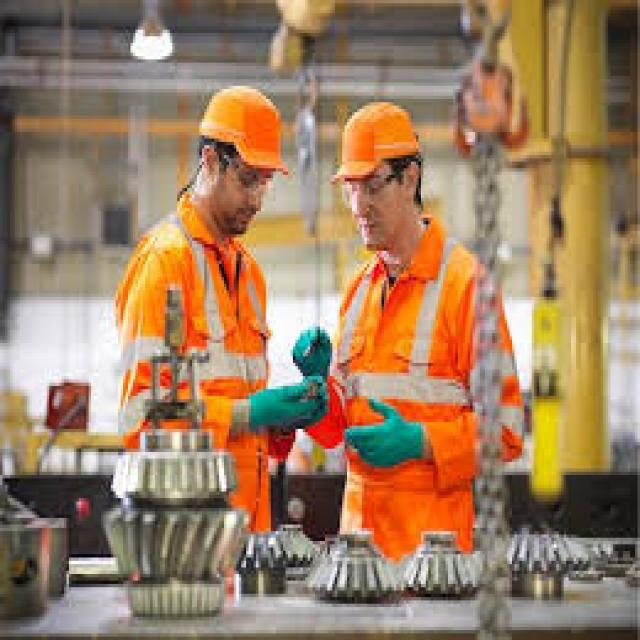Reflective-Jacket: (101, 208, 283, 514), (325, 224, 497, 512)
Safety-Helmet: (182, 76, 296, 191), (322, 89, 433, 198)
